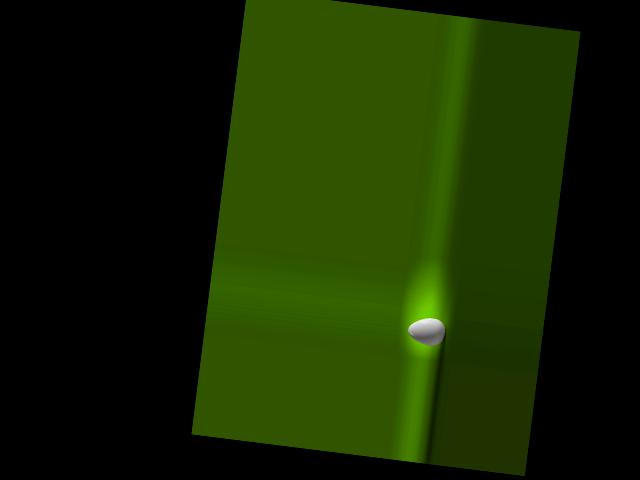egg: (406, 315, 446, 347)
